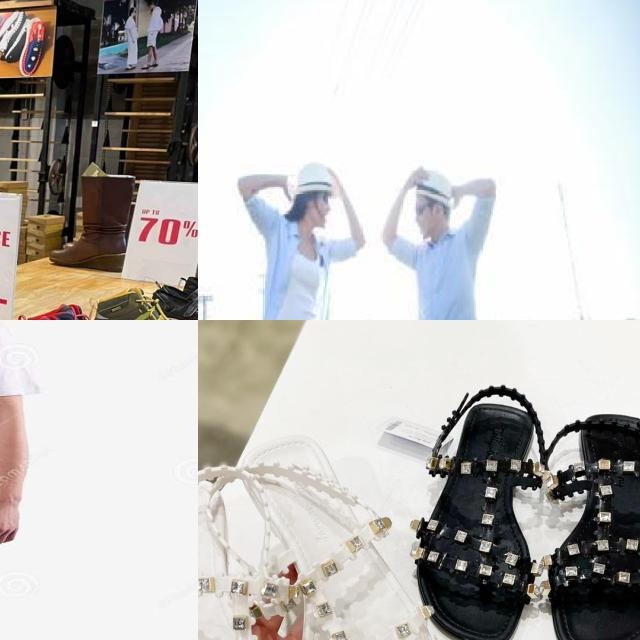Sandals: (393, 362, 640, 640), (198, 430, 474, 640)
face_nomask: (412, 196, 434, 238), (313, 188, 333, 226)
glasses: (414, 201, 431, 217)
hand_noglove: (0, 475, 29, 553)
head_nohelmet: (290, 158, 342, 196), (414, 168, 458, 203)
person: (233, 155, 364, 320), (379, 159, 507, 320), (0, 320, 42, 640)
